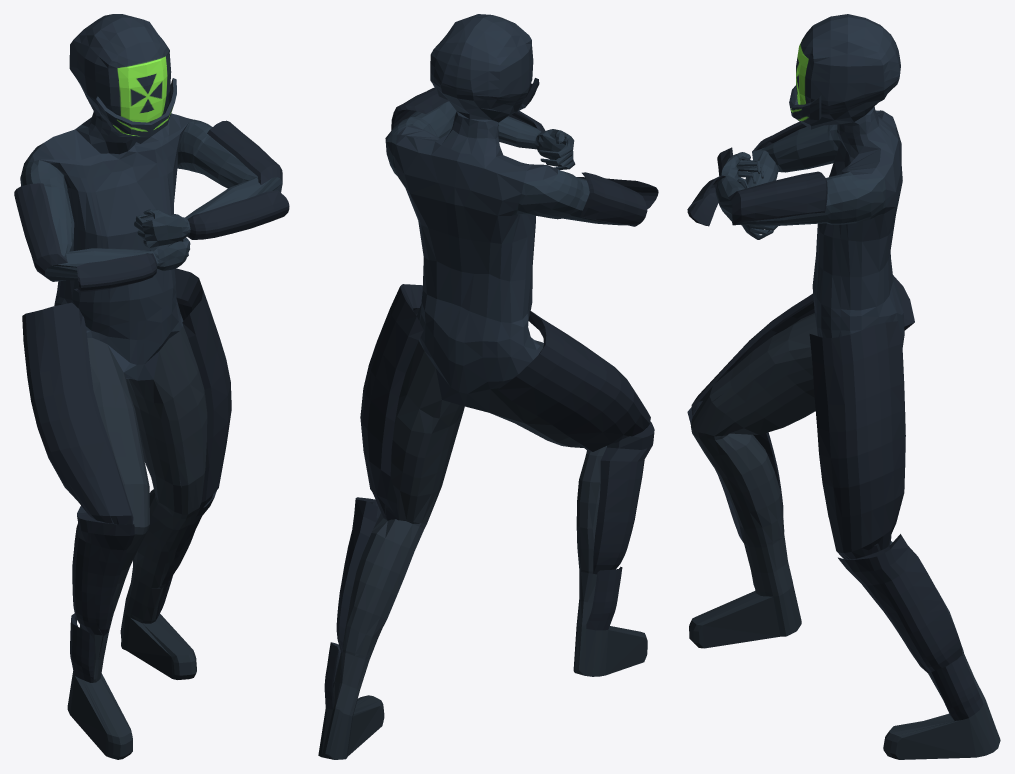
The model's file is Bastion_WB_000008.obj.
The picture shows the model from 3 angles, left to right: view 1: azimuth 30°, elevation 25°; view 2: azimuth 150°, elevation 25°; view 3: azimuth 270°, elevation 25°; orthographic projection. The views are drawn at different scales.
Parts seen in each view (by area): view 1: Cube.002; view 2: Cube.002; view 3: Cube.002.
Part boxes in pixels (bbox=[...]): Cube.002: bbox=[14, 14, 289, 759]; Cube.002: bbox=[318, 14, 658, 759]; Cube.002: bbox=[687, 14, 1000, 759].
Bounding box in the file's own units: 1.32 × 3.71 × 1.51.
